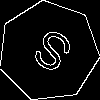S: (24, 26, 76, 83)
